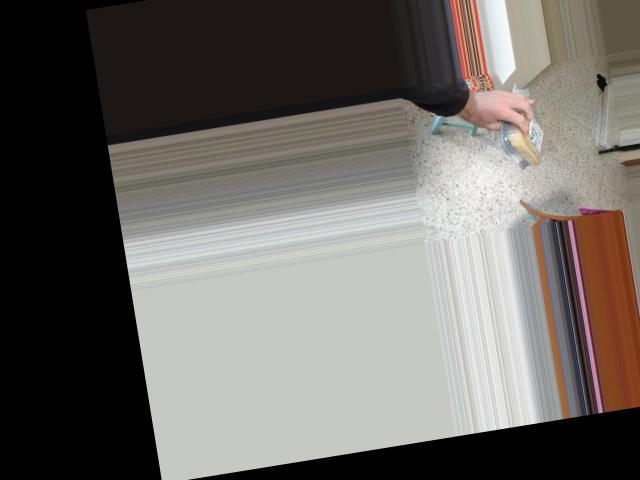cheese: (500, 92, 548, 170)
